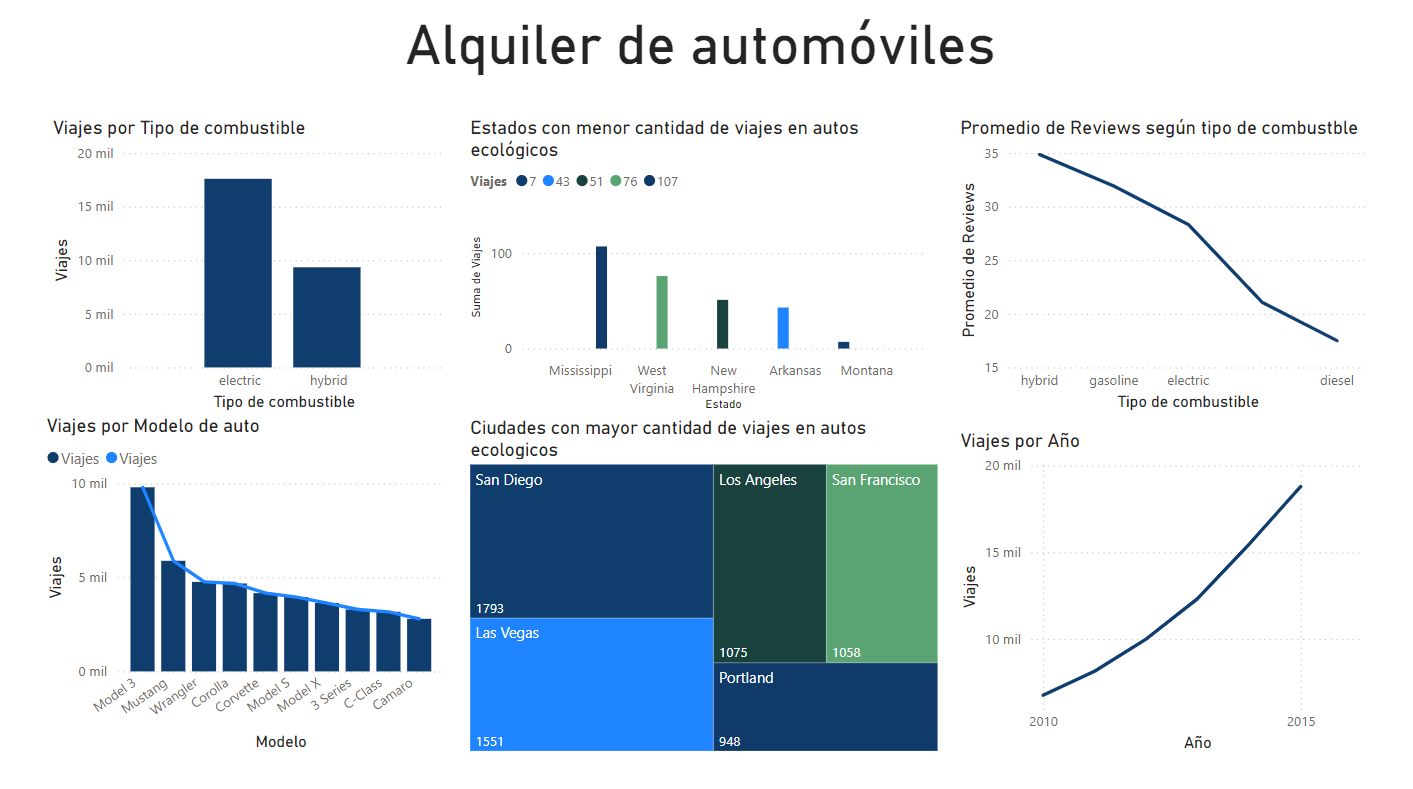

Layout of this report page (visuals, bound fields, positions):
{"tool":"powerbi","page":{"name":"Página 1","canvas":[1280,720],"ordinal":0},"visuals":[{"type":"clusteredColumnChart","fields":{"Category":["5_A.fuelType"],"Y":["Sum(5_A.viajes)"]},"box":[46.2,110.5,363.2,270.2],"z":0},{"type":"clusteredColumnChart","title":"Estados con menor cantidad de viajes en autos ecológicos","fields":{"Category":["5_B.state_name"],"Y":["Sum(5_B.Viajes)"],"Series":["5_B.Viajes"]},"box":[422.8,110.5,419.4,270.2],"z":1000},{"type":"lineClusteredColumnComboChart","title":"Viajes por Modelo de auto","fields":{"Category":["5_C.model"],"Y":["Sum(5_C.Viajes)"],"Y2":["Sum(5_C.Viajes)"]},"box":[40.6,378.7,368.6,308.8],"z":2000},{"type":"lineChart","title":"Viajes por Año","fields":{"Y":["Sum(5_D.Viajes)"],"Category":["5_D.year"]},"box":[864.3,391.7,376.6,295.9],"z":3000},{"type":"treemap","title":"Ciudades con mayor cantidad de viajes en autos ecologicos","fields":{"Group":["5_E.city"],"Details":["5_E.Viajes"],"Values":["Sum(5_E.Viajes)"]},"box":[422.8,380.7,431.7,306.9],"z":4000},{"type":"lineChart","title":"Promedio de Reviews según tipo de combustble","fields":{"Category":["5_F.fuelType"],"Y":["Sum(5_F.Promedio de Reviews)"]},"box":[864.3,110.5,376.6,270.2],"z":5000},{"type":"textbox","box":[364.1,11.3,557.9,67.6],"z":6000}]}

Visuals, with their boxes in screenshot pixels (x1, y1, x2, y2), scaled from the page's 1280x720 canvas onto the 1413x789 screenshot:
clusteredColumnChart - 5_A.fuelType x Sum(5_A.viajes): rect(51, 121, 452, 417)
"Estados con menor cantidad de viajes en autos ecológicos" clusteredColumnChart: rect(467, 121, 930, 417)
"Viajes por Modelo de auto" lineClusteredColumnComboChart: rect(45, 415, 452, 753)
"Viajes por Año" lineChart: rect(954, 429, 1370, 753)
"Ciudades con mayor cantidad de viajes en autos ecologicos" treemap: rect(467, 417, 943, 753)
"Promedio de Reviews según tipo de combustble" lineChart: rect(954, 121, 1370, 417)
textbox: rect(402, 12, 1018, 86)
